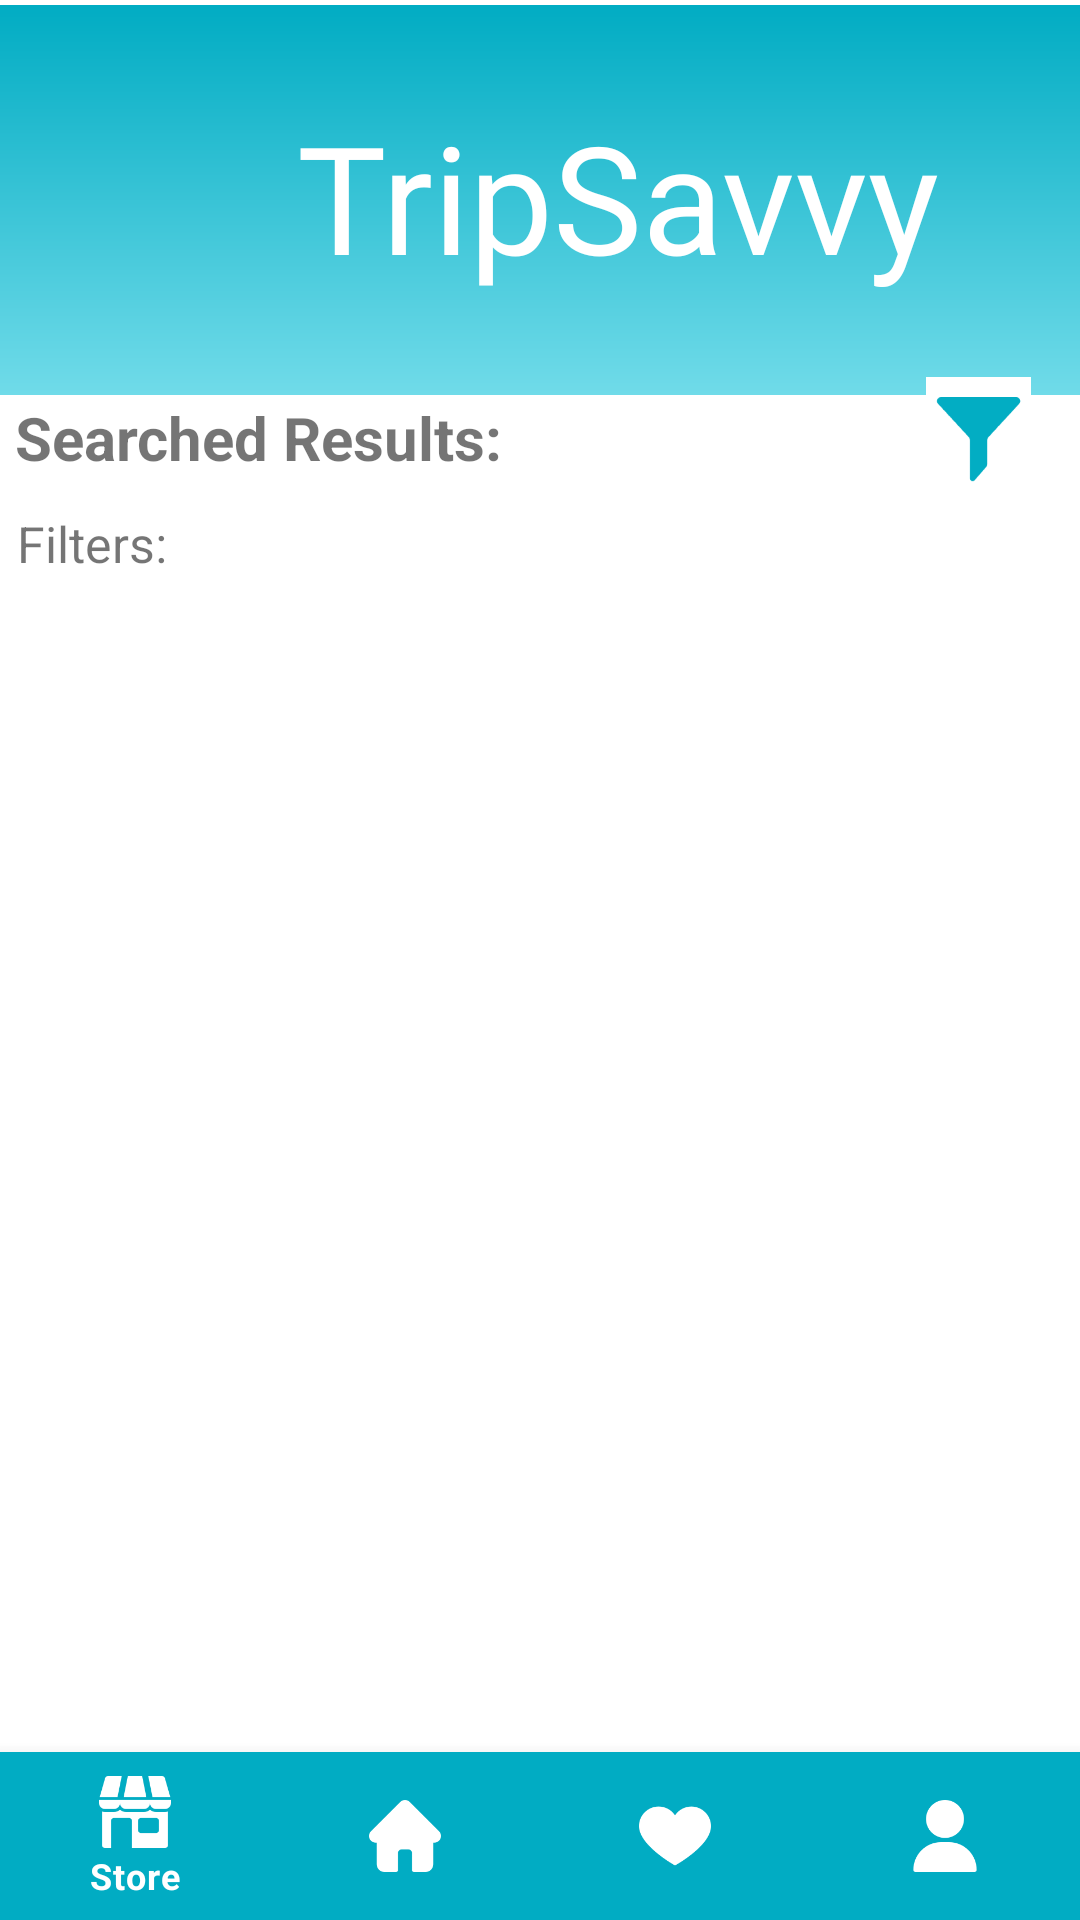

Named icons in this screenshot (1080 x 1920) and their bounding boxes, (x1, y1, x2, y2):
filterimg: (936, 397, 1021, 482)
